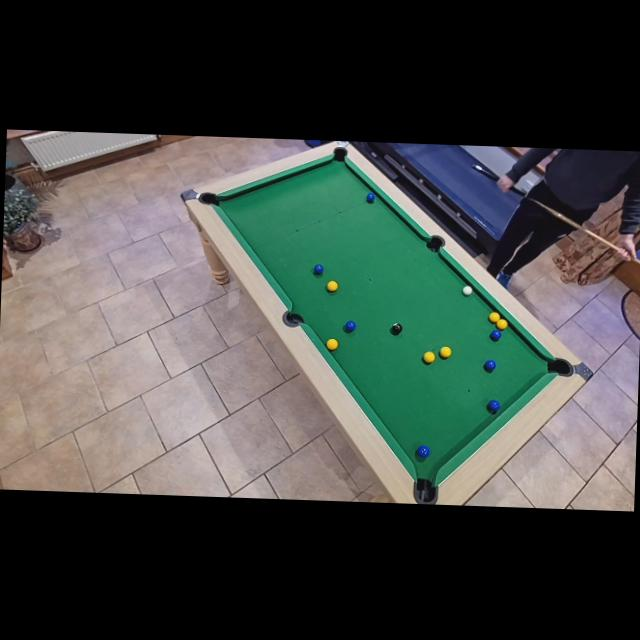Ball: (416, 446, 429, 458), (487, 400, 499, 412), (484, 361, 495, 372), (391, 322, 402, 333), (497, 319, 507, 330), (488, 312, 499, 322), (327, 280, 338, 290), (490, 330, 501, 340), (344, 321, 354, 332), (424, 352, 434, 362), (440, 346, 450, 356), (326, 340, 336, 350), (313, 264, 323, 274), (462, 285, 472, 295), (366, 192, 374, 202)
